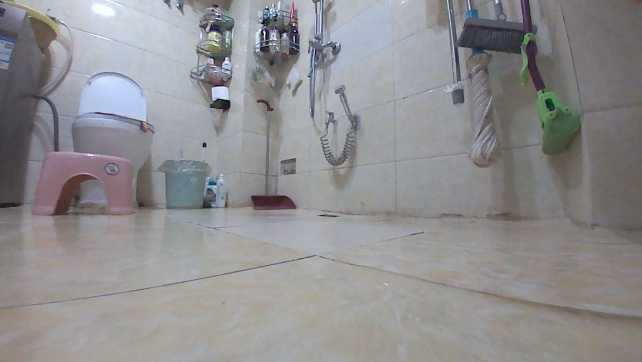toilet: (71, 69, 159, 215)
trash_can: (160, 155, 211, 207)
